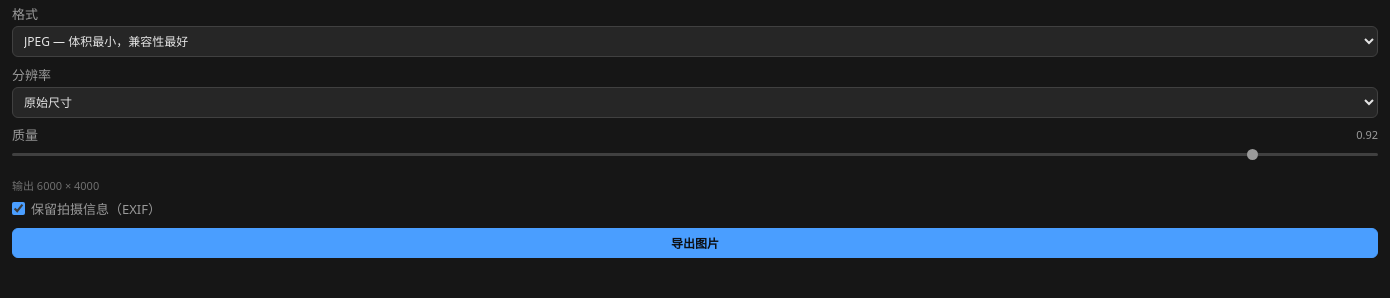
it: ExportPanel 的 EXIF 保留 › RAW 源导出时把拍摄信息作为 EXIF 来源传下去
Click the button "导出图片" at (695, 243), box 12,228 -> 1378,258
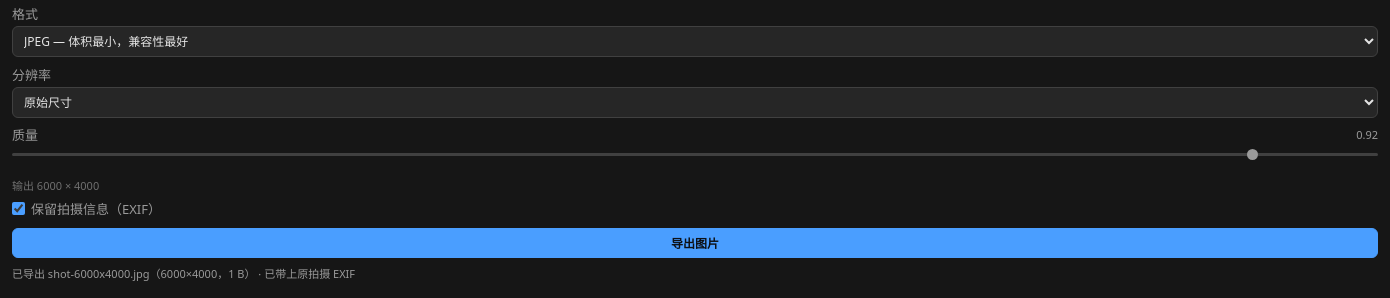
Result: the text "已导出 shot-6000x4000.jpg（6000×4000，1 B） · 已带上原拍摄 EXIF" is shown at 12,266 -> 355,281
